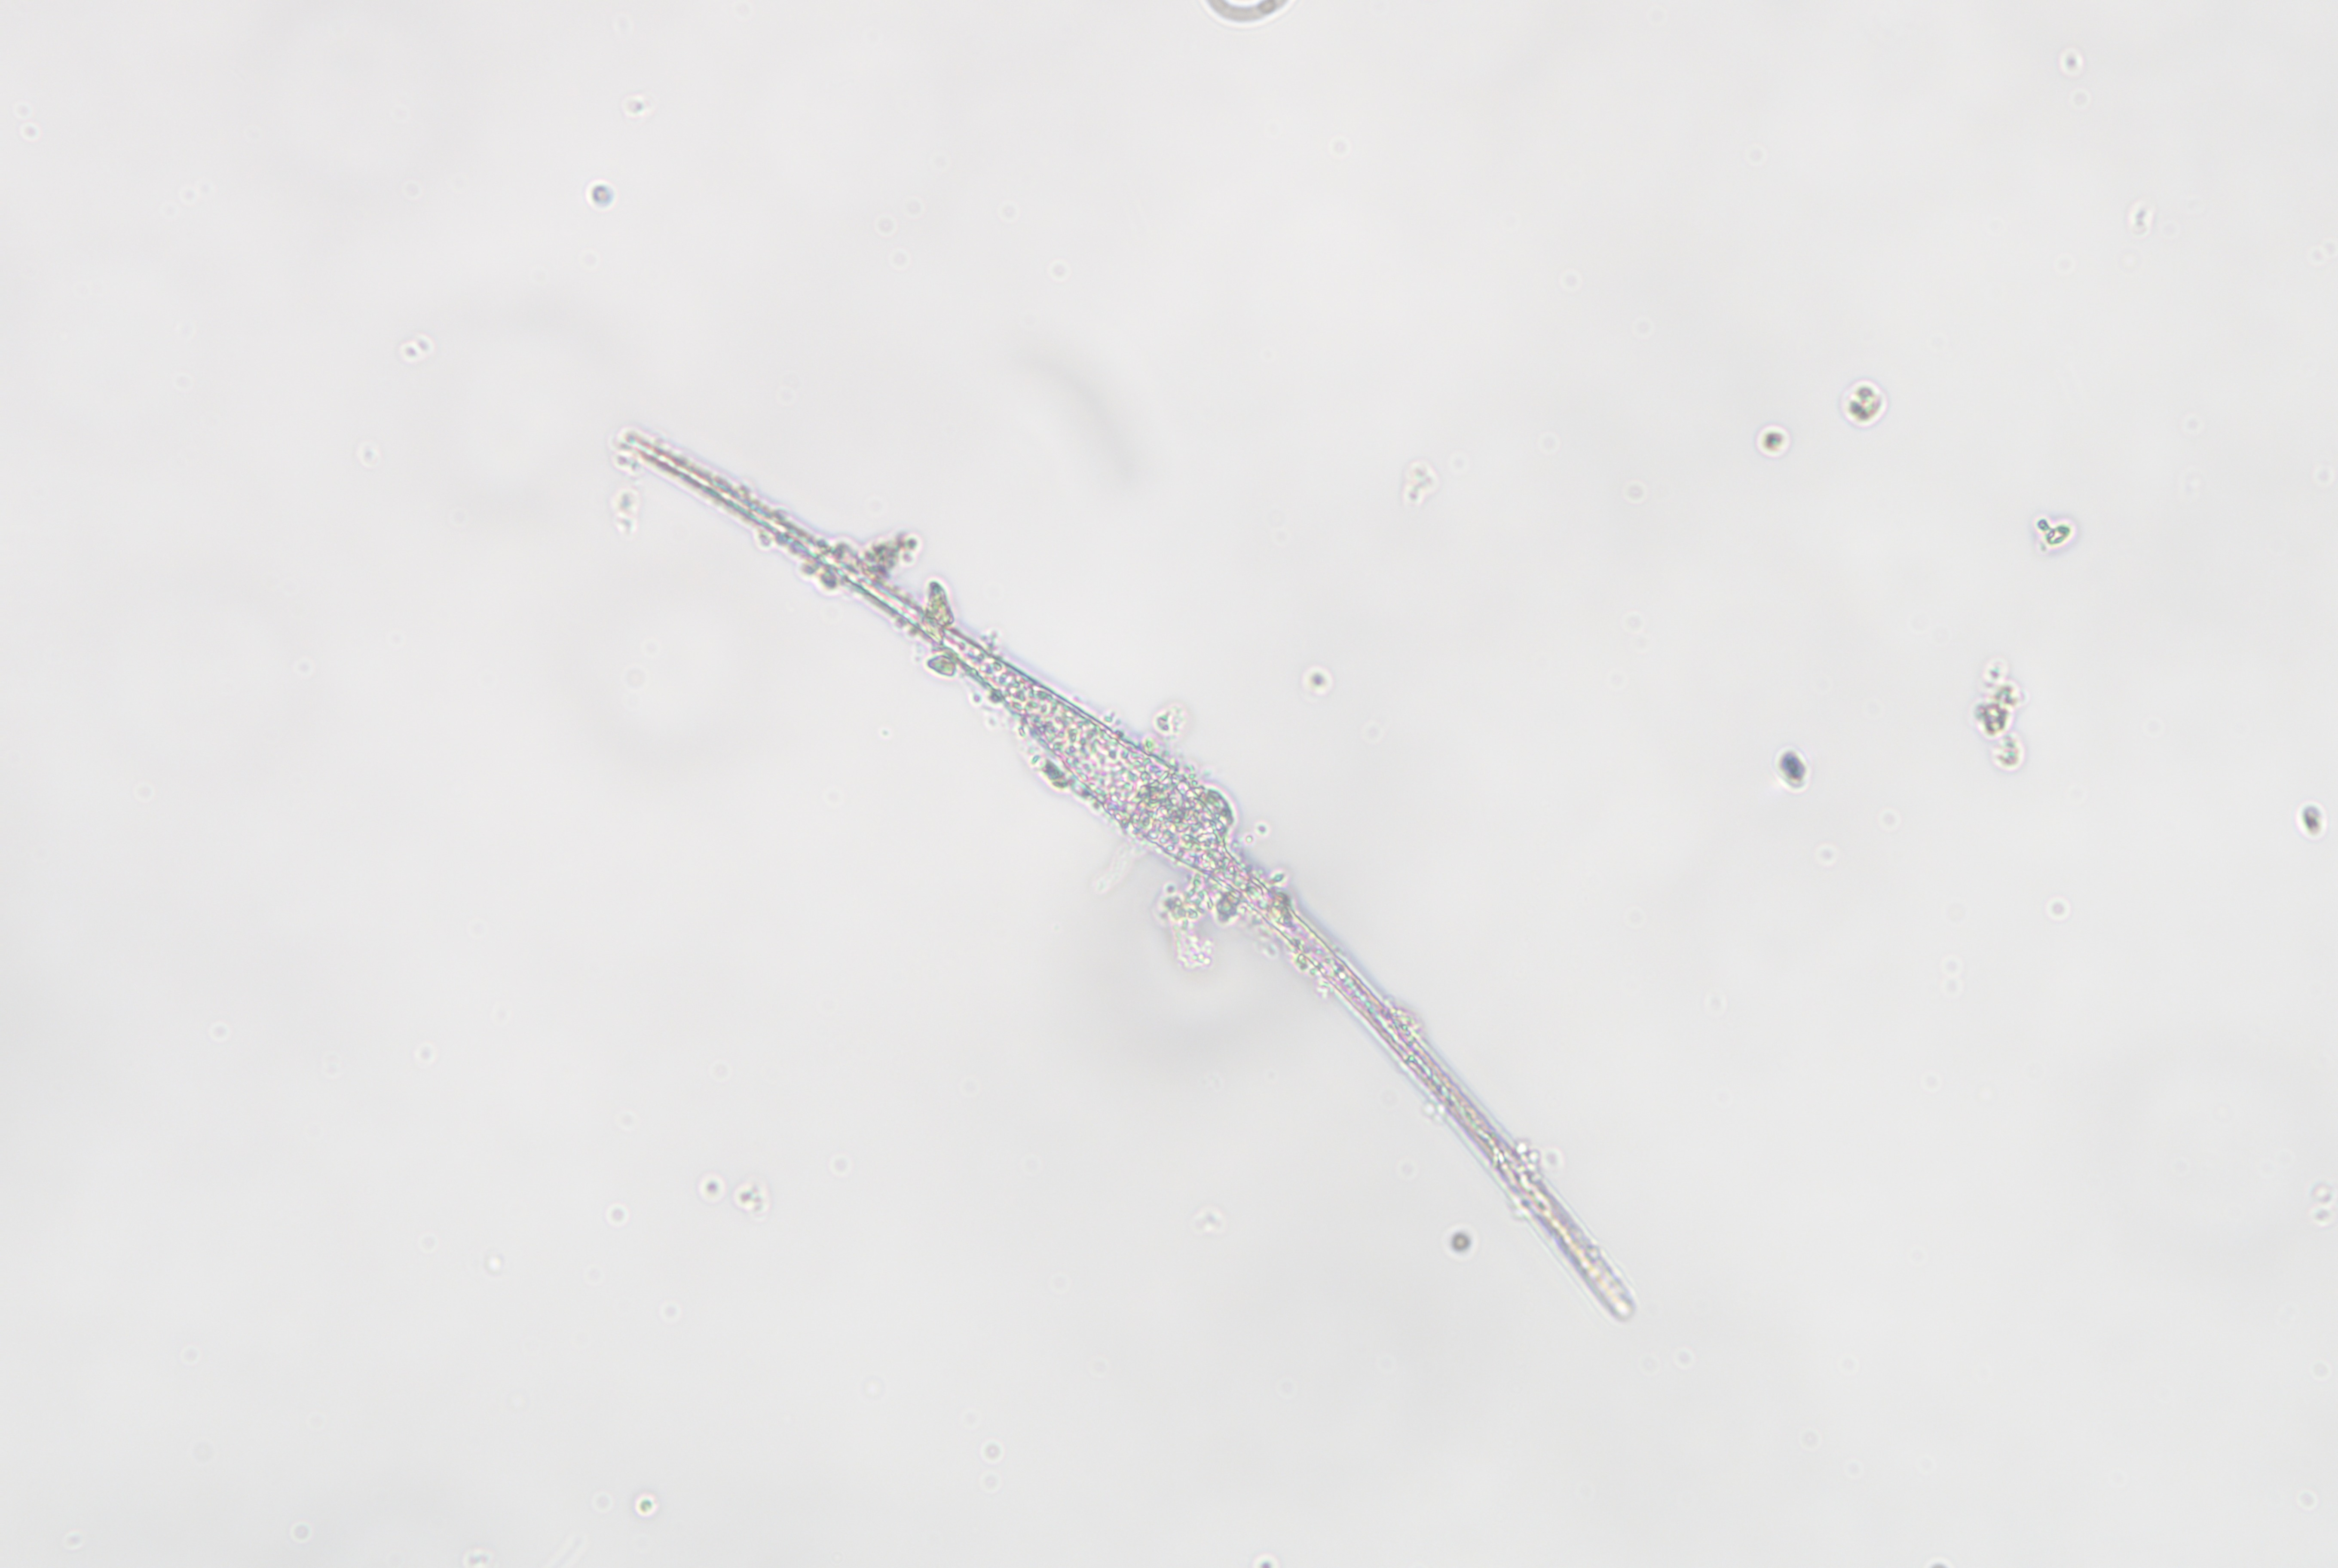ceratium fusus: (609, 418, 1642, 1328)
